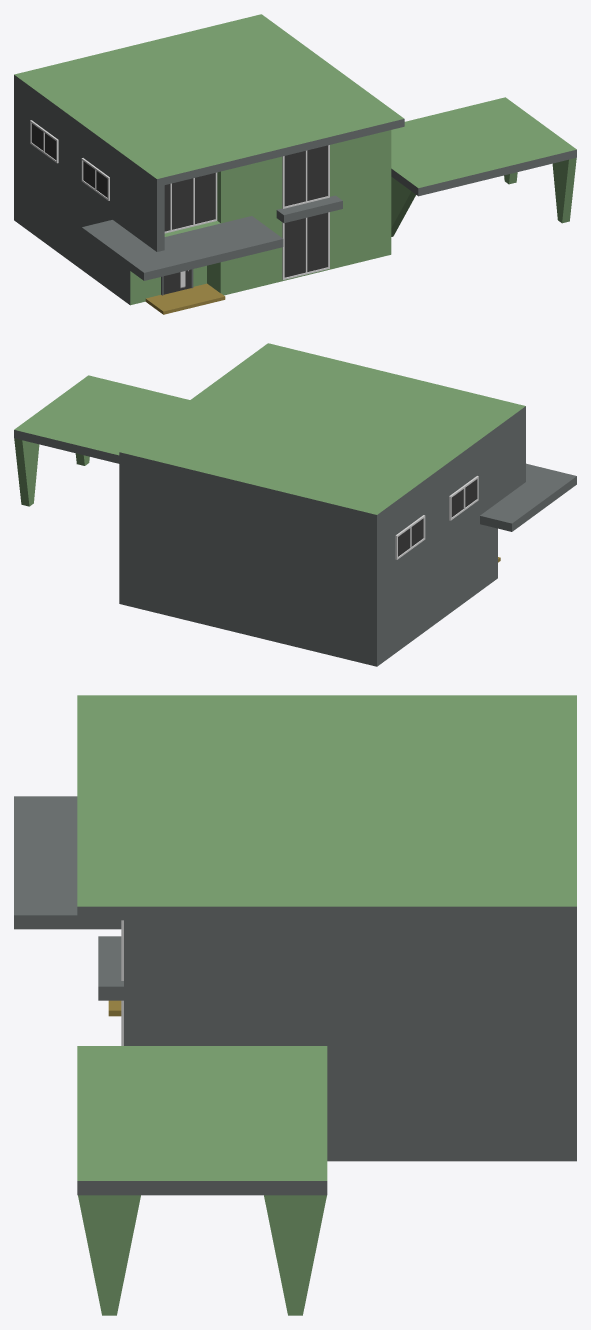
File: building-house-04-color02.glb
3 renders of one model, top to bottom at view 1: azimuth 30°, elevation 25°; view 2: azimuth 150°, elevation 25°; view 3: azimuth 270°, elevation 25°, orthographic. The views are drawn at different scales.
Parts seen in each view (by area): view 1: model; view 2: model; view 3: model.
Part boxes in pixels (x1,y1,x2,y2): model: (14,14,576,314); model: (14,343,576,666); model: (14,695,576,1315).
Size of the model in its own units: 24.77 by 7.87 by 15.32.
Materials: 1 (1 with a texture image).
